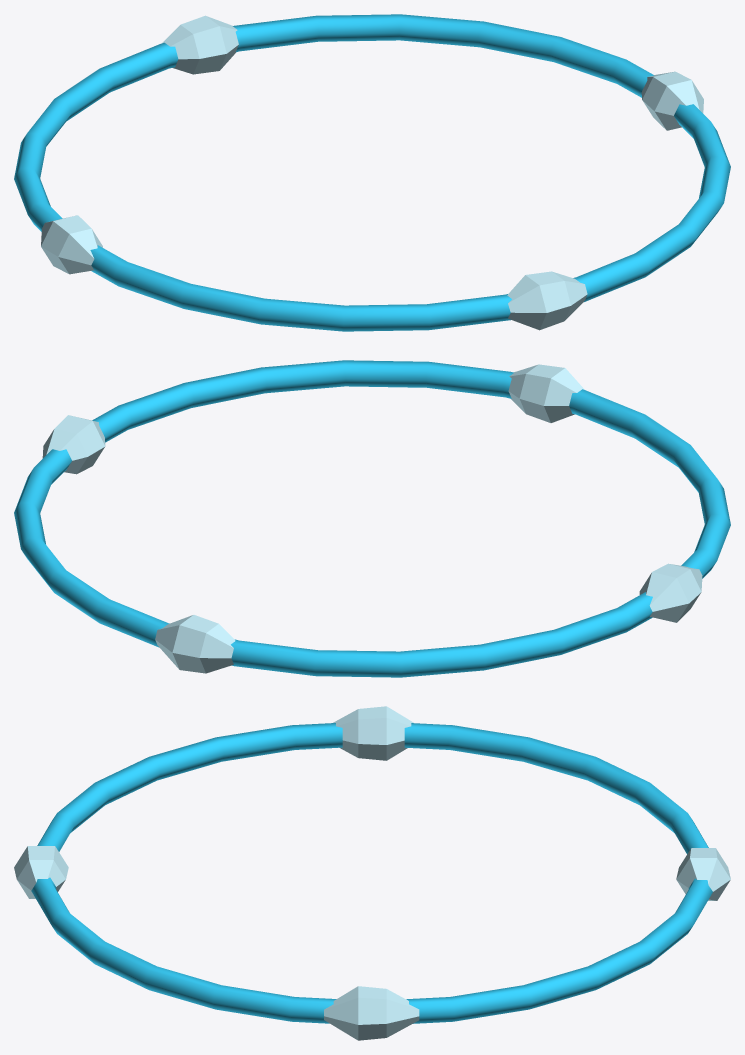
File: evo_halo_ring.obj
3 views of the same model, one above another, from view 1: azimuth 30°, elevation 25°; view 2: azimuth 150°, elevation 25°; view 3: azimuth 270°, elevation 25° (orthographic). The views are drawn at different scales.
Parts seen in each view (by area): view 1: EvoRing, EvoNode_3, EvoNode_1, EvoNode_2, EvoNode_0; view 2: EvoRing, EvoNode_1, EvoNode_3, EvoNode_2, EvoNode_0; view 3: EvoRing, EvoNode_0, EvoNode_2, EvoNode_3, EvoNode_1.
Part boxes in pixels (x1=…): EvoRing: x1=14, y1=14, x2=730, y2=331; EvoNode_3: x1=507, y1=271, x2=587, y2=330; EvoNode_1: x1=162, y1=15, x2=238, y2=74; EvoNode_2: x1=41, y1=215, x2=102, y2=274; EvoNode_0: x1=641, y1=71, x2=703, y2=130; EvoRing: x1=14, y1=360, x2=730, y2=677; EvoNode_1: x1=155, y1=615, x2=235, y2=673; EvoNode_3: x1=508, y1=364, x2=584, y2=422; EvoNode_2: x1=639, y1=563, x2=702, y2=622; EvoNode_0: x1=42, y1=415, x2=105, y2=474; EvoRing: x1=31, y1=723, x2=712, y2=1023; EvoNode_0: x1=324, y1=986, x2=419, y2=1040; EvoNode_2: x1=333, y1=706, x2=414, y2=760; EvoNode_3: x1=14, y1=846, x2=68, y2=898; EvoNode_1: x1=676, y1=848, x2=730, y2=900.
Size of the model in its own units: 0.314 by 0.0208 by 0.314.
